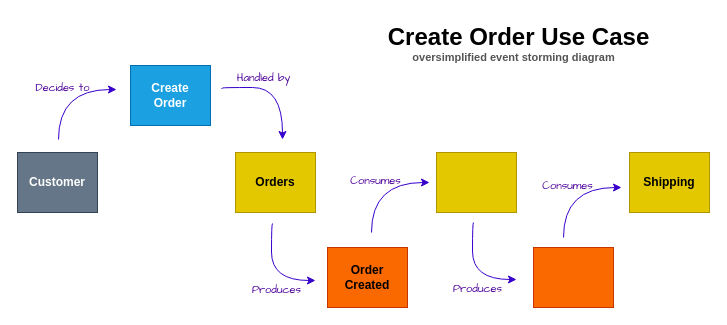
Image size: 727x325. Some labels were removed from this diagram. The shapes that lost their labels are listed below. From the top down, each one's centre as x and y in pixels, then its label:
At (x=476, y=182): "Billing".
At (x=573, y=277): "Order Paid".
